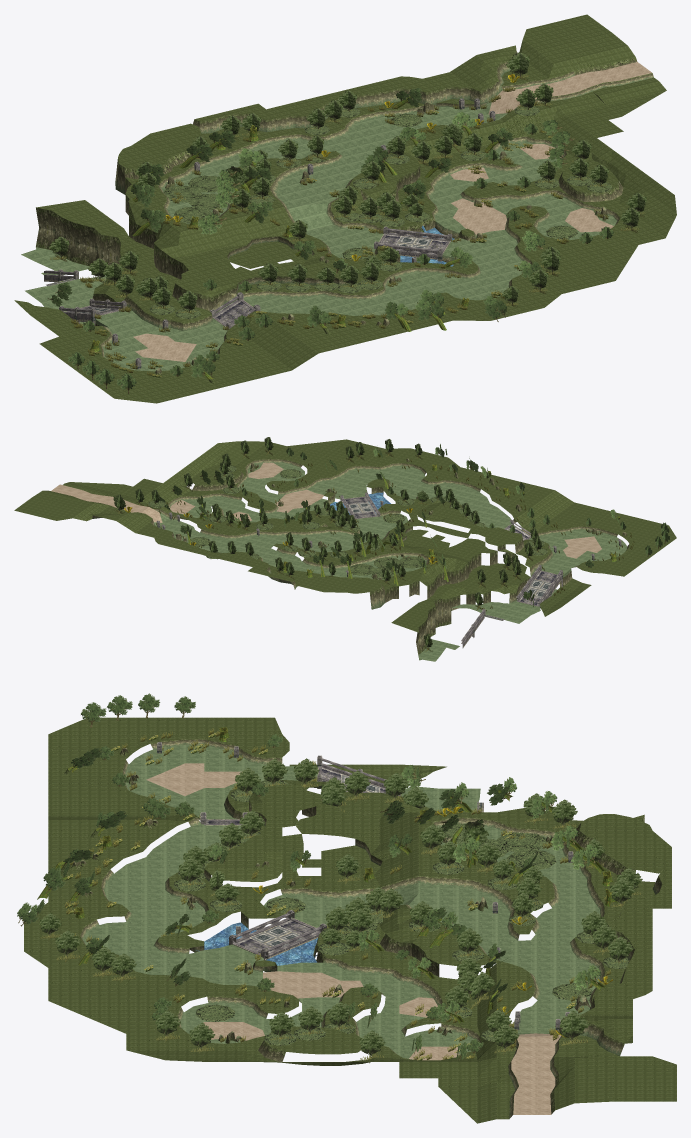
File: Ursula4.obj
3 renders of one model, top to bottom at view 1: azimuth 30°, elevation 25°; view 2: azimuth 150°, elevation 25°; view 3: azimuth 270°, elevation 25°, orthographic. The views are drawn at different scales.
Visible parts, largest first — view 1: Object.67, Object.173, Object.135, Object.271, Object.50, Object.65, Object.141, Object.86, Object.83, Object.140, Object.26, Object.69 (+90 smaller); view 2: Object.67, Object.135, Object.174, Object.140, Object.271, Object.142, Object.100, Object.13, Object.107, Object.126, Object.273, Object.87 (+55 smaller); view 3: Object.67, Object.140, Object.86, Object.141, Object.45, Object.108, Object.142, Object.69, Object.26, Object.25, Object.75, Object.271 (+95 smaller).
Part boxes in pixels (bbox=[...]): Object.67: bbox=[504, 29, 611, 78]; Object.173: bbox=[61, 177, 131, 267]; Object.135: bbox=[234, 330, 318, 376]; Object.271: bbox=[44, 226, 452, 286]; Object.50: bbox=[277, 175, 345, 220]; Object.65: bbox=[450, 48, 539, 91]; Object.141: bbox=[99, 374, 194, 403]; Object.86: bbox=[186, 234, 276, 272]; Object.83: bbox=[147, 212, 238, 255]; Object.140: bbox=[154, 354, 264, 396]; Object.26: bbox=[385, 272, 475, 305]; Object.69: bbox=[566, 90, 666, 137]; Object.67: bbox=[32, 497, 113, 521]; Object.135: bbox=[533, 490, 592, 522]; Object.174: bbox=[426, 561, 461, 627]; Object.140: bbox=[572, 507, 649, 536]; Object.271: bbox=[340, 495, 504, 647]; Object.142: bbox=[568, 556, 643, 591]; Object.100: bbox=[436, 563, 503, 597]; Object.13: bbox=[478, 601, 540, 623]; Object.107: bbox=[365, 448, 429, 467]; Object.126: bbox=[423, 453, 467, 482]; Object.273: bbox=[365, 492, 562, 598]; Object.87: bbox=[457, 546, 526, 583]; Object.67: bbox=[554, 1036, 676, 1101]; Object.140: bbox=[48, 751, 126, 799]; Object.86: bbox=[296, 815, 398, 867]; Object.141: bbox=[48, 717, 126, 766]; Object.45: bbox=[473, 918, 573, 963]; Object.108: bbox=[48, 967, 127, 1000]; Object.142: bbox=[204, 717, 317, 766]; Object.69: bbox=[399, 1062, 477, 1123]; Object.26: bbox=[121, 895, 205, 939]; Object.25: bbox=[124, 931, 223, 973]; Object.75: bbox=[566, 830, 671, 880]; Object.271: bbox=[232, 801, 483, 960].
Bounding box in the file's own units: 213 × 31.06 × 136.
Materials: 13 (13 with a texture image).
